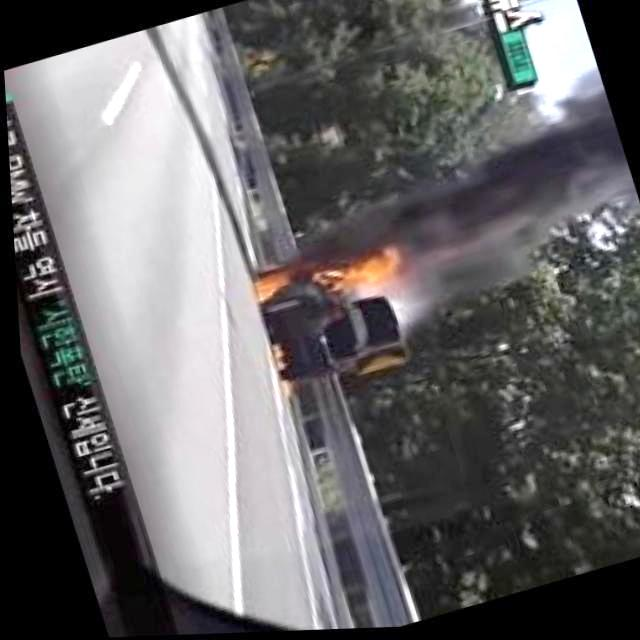fire: (242, 246, 382, 324)
